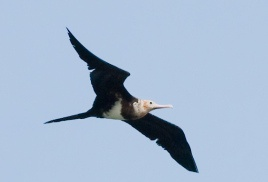bird: (42, 25, 200, 175)
